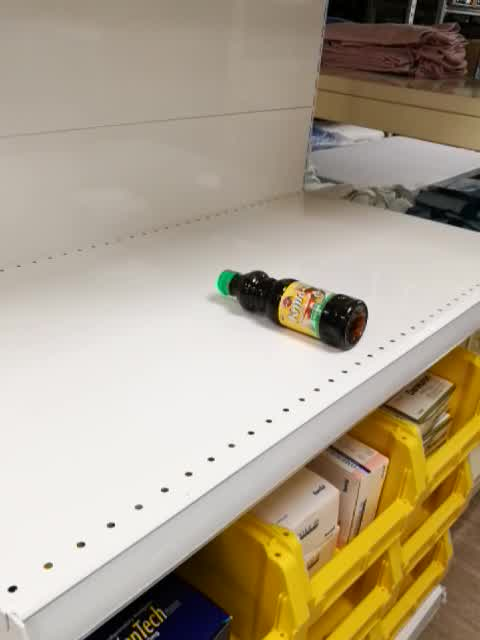cookingoil: (212, 268, 369, 352)
